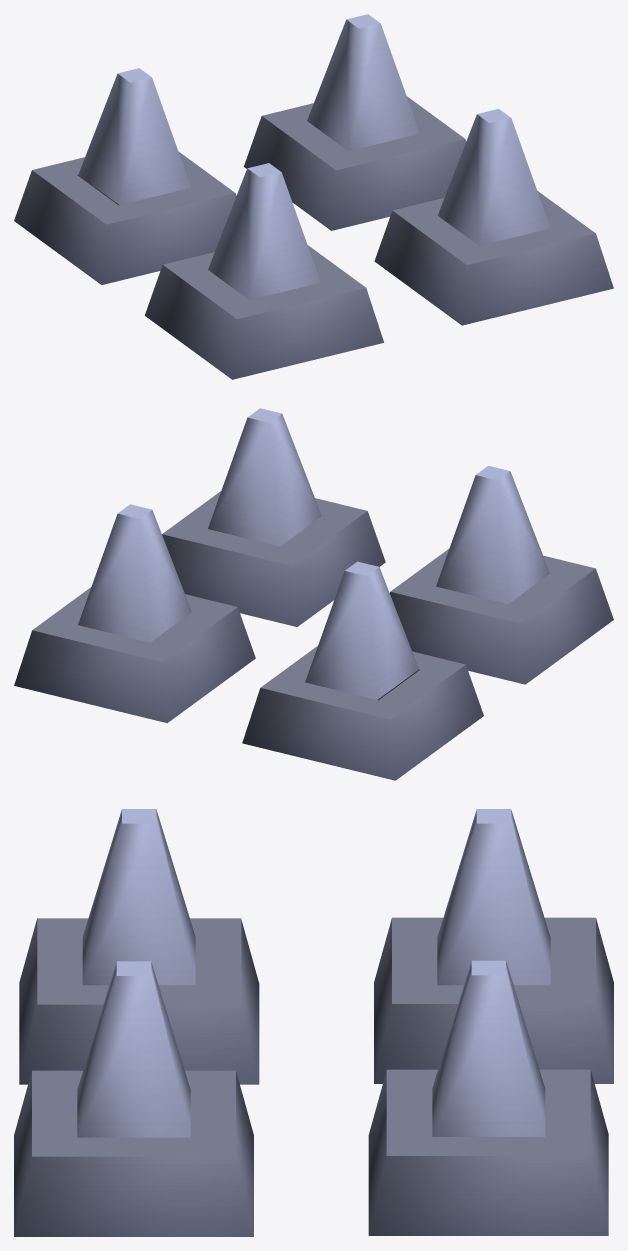
File: trap.gltf
The picture shows the model from 3 angles, top to bottom: view 1: azimuth 30°, elevation 25°; view 2: azimuth 150°, elevation 25°; view 3: azimuth 270°, elevation 25°; orthographic projection. The views are drawn at different scales.
Visible parts, largest first — view 1: trap, spikes; view 2: trap, spikes; view 3: trap, spikes.
Part boxes in pixels (bbox=[...]): trap: bbox=[14, 96, 613, 379]; spikes: bbox=[78, 14, 550, 299]; trap: bbox=[14, 491, 613, 780]; spikes: bbox=[78, 408, 549, 699]; trap: bbox=[14, 917, 613, 1236]; spikes: bbox=[77, 809, 550, 1137].
Bounding box in the file's own units: 0.6392 × 0.255 × 0.6375.
1 material, 1 textured.
